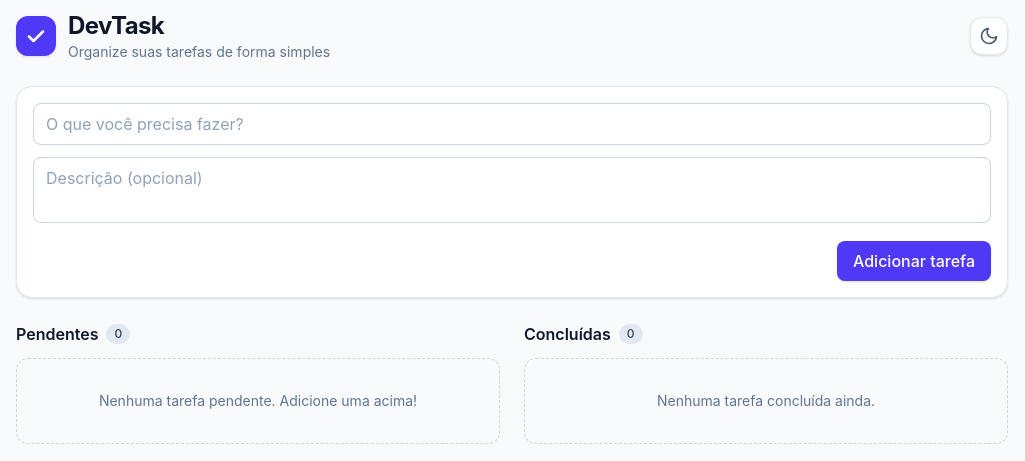
Test: App › não envia tarefa sem título
Expected: the text "Nenhuma tarefa concluída ainda." is shown, [524, 358, 1008, 444]
Click the button "Adicionar tarefa": (914,261) [837, 241, 991, 281]
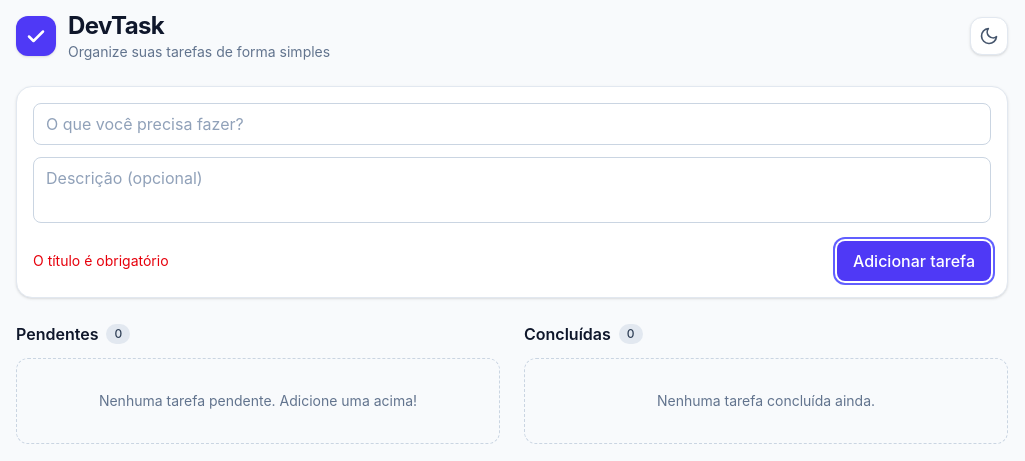
Expected: the text "O título é obrigatório" is shown, [33, 251, 168, 271]
